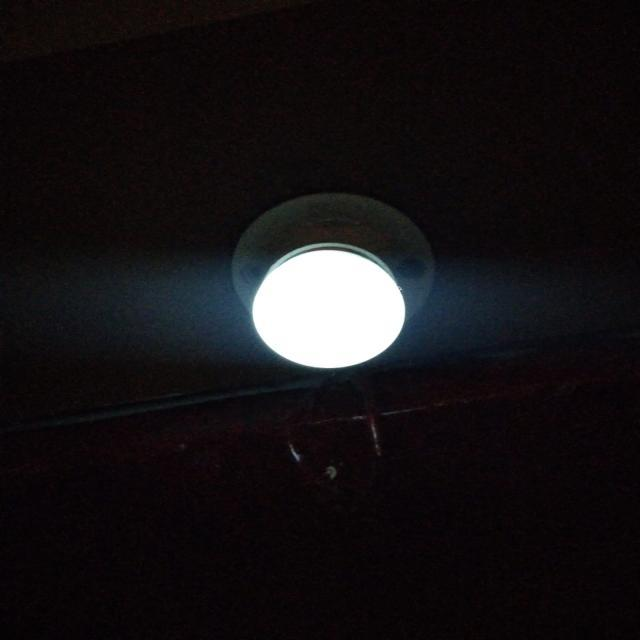bulb_on: (237, 199, 434, 373)
